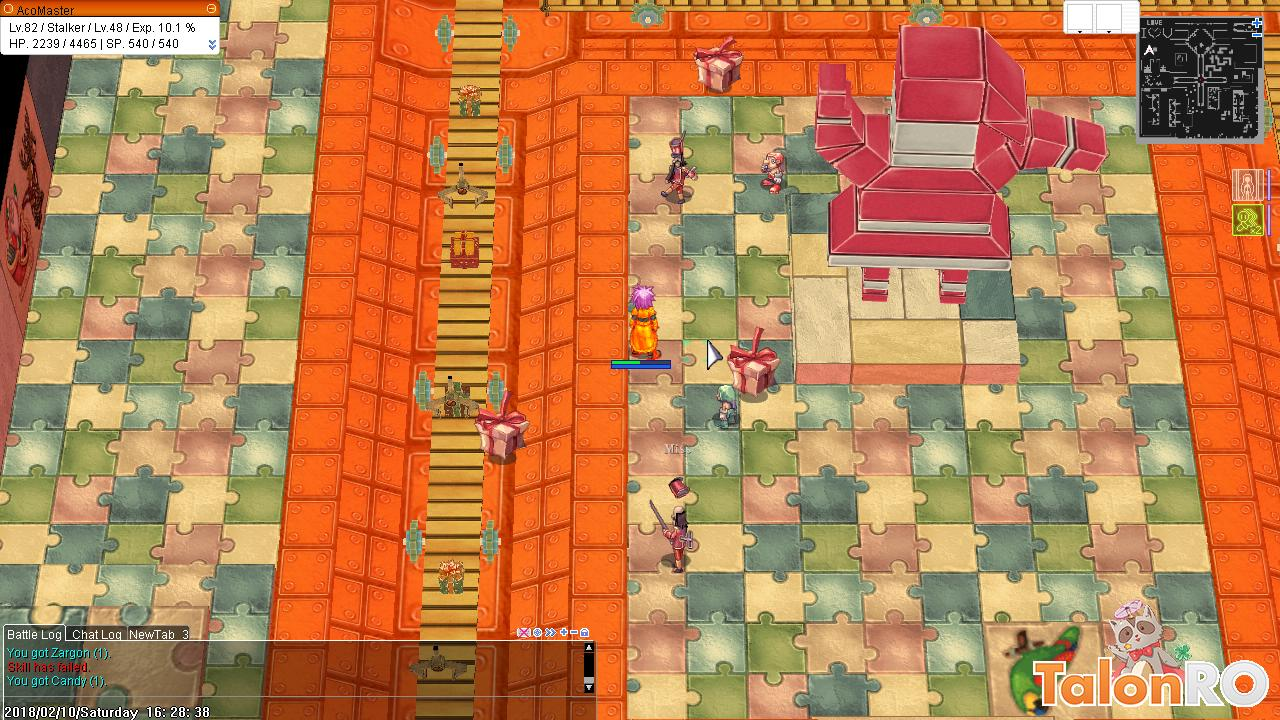mob: (642, 471, 698, 580), (725, 322, 778, 402), (658, 123, 700, 211)
myst_case: (473, 388, 532, 466), (690, 31, 752, 99)
